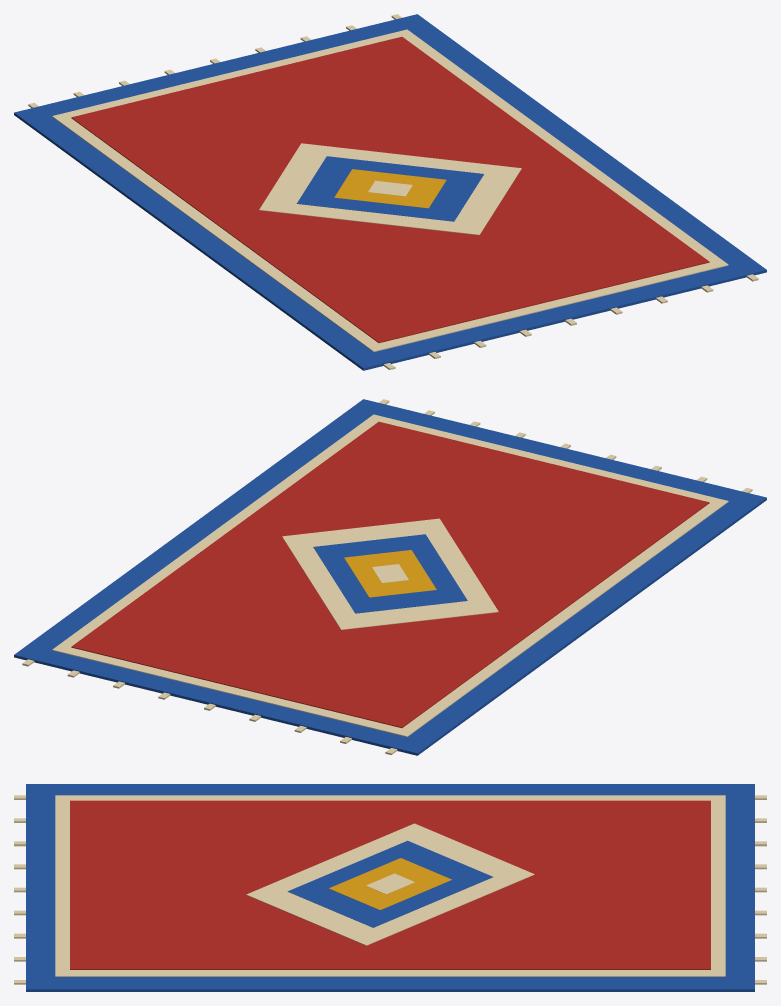
Rendered from dc_rug.glb.
The picture shows the model from 3 angles, top to bottom: view 1: azimuth 30°, elevation 25°; view 2: azimuth 150°, elevation 25°; view 3: azimuth 270°, elevation 25°; orthographic projection. The views are drawn at different scales.
Visible parts, largest first — view 1: dc_rug; view 2: dc_rug; view 3: dc_rug.
Boxes of the visible parts, x1,y1,x2,y2 form: dc_rug: (14, 14, 766, 370); dc_rug: (14, 399, 766, 755); dc_rug: (14, 784, 766, 991).
Size of the model in its own units: 2.02 by 0.025 by 3.14.
